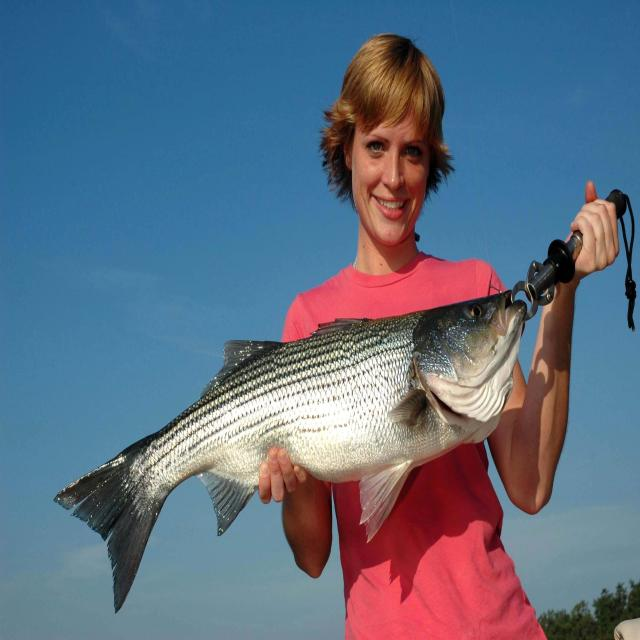Bass - Striped: (55, 291, 526, 611)
